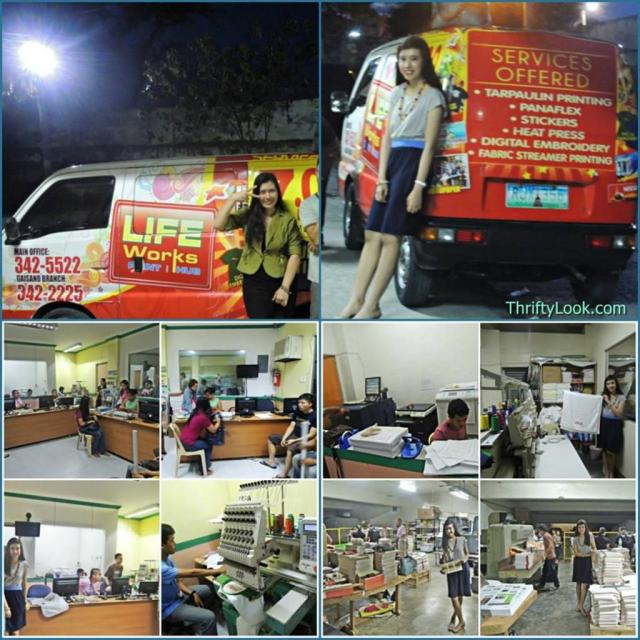car: (4, 154, 360, 337)
